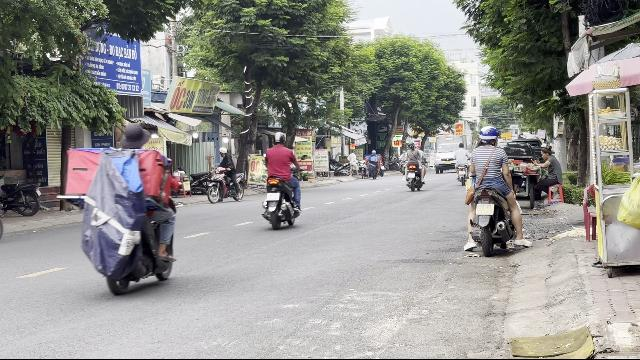helmet: (478, 126, 498, 146), (272, 131, 286, 145)
licenseplate: (476, 204, 494, 214), (266, 193, 280, 201)
motorcyclist: (78, 120, 180, 296), (461, 124, 525, 256), (260, 132, 302, 228)
nohelmet: (118, 123, 150, 151)
